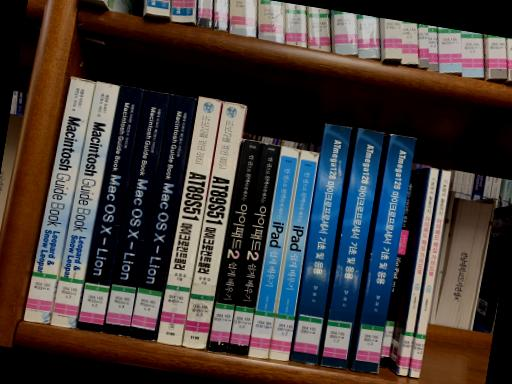book-spine: (23, 77, 94, 324), (50, 81, 119, 328), (128, 94, 196, 341), (76, 85, 143, 332), (103, 90, 170, 336), (156, 96, 221, 346), (182, 101, 246, 348), (351, 134, 416, 373), (320, 128, 384, 369), (291, 123, 353, 365), (228, 143, 280, 355), (248, 146, 300, 358), (210, 139, 261, 353), (269, 150, 319, 360), (410, 169, 451, 378), (398, 168, 439, 376), (380, 172, 418, 367)
